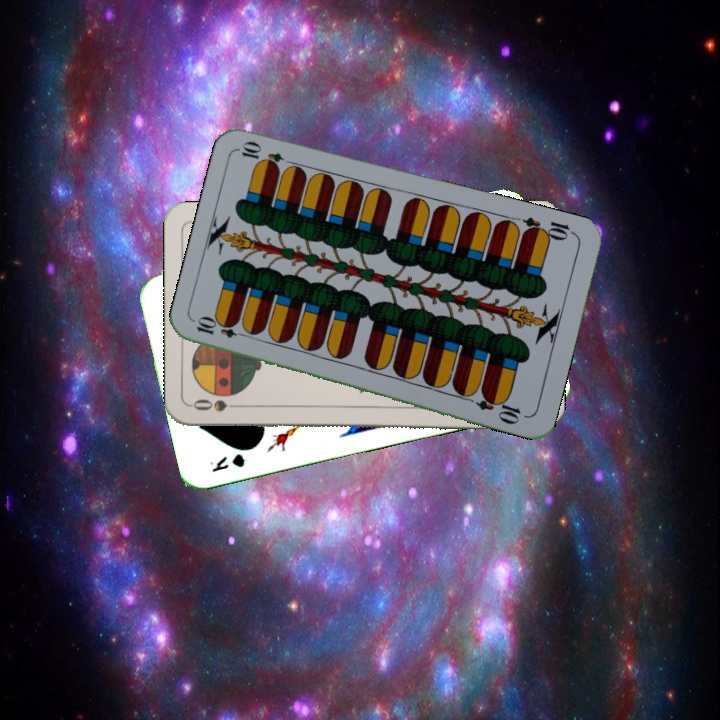E10: (519, 213, 578, 243), (192, 315, 252, 341)
GK: (205, 450, 248, 475)
SO: (189, 395, 248, 414)
